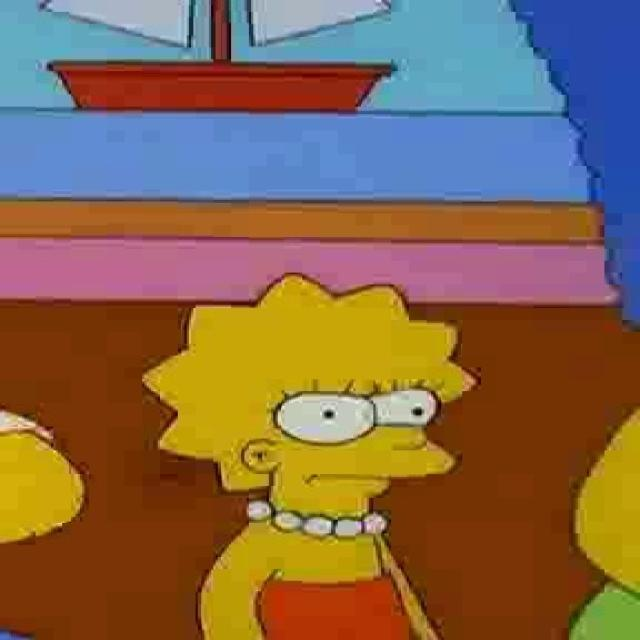Lisa Simpson: (136, 270, 482, 542)
